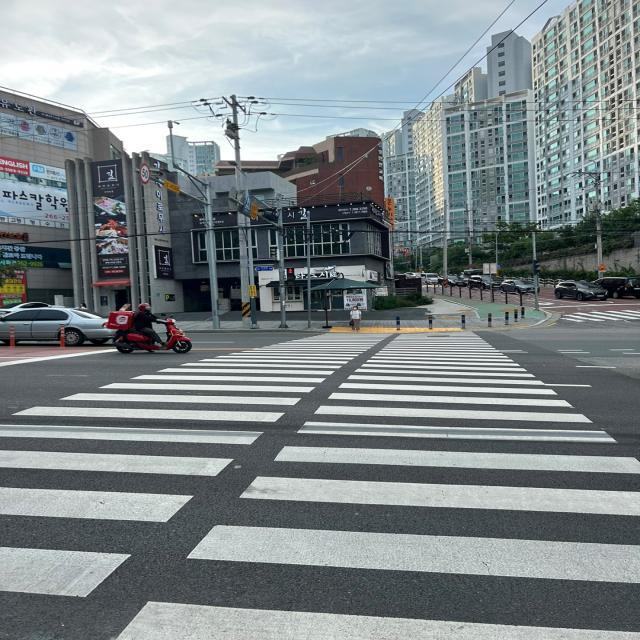red_light: (288, 268, 294, 274)
